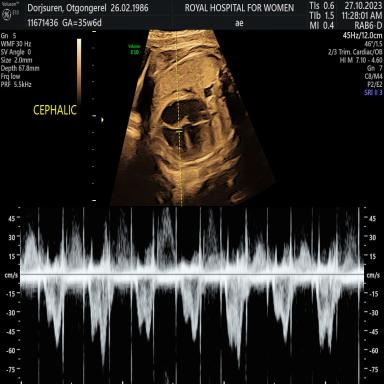Ultrasound-Waves: (30, 206, 358, 384)
